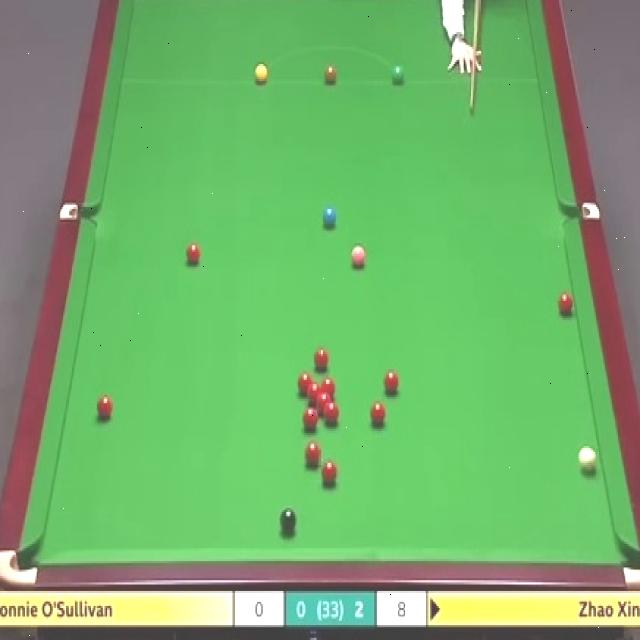black-ball: (280, 508, 297, 532)
blue-ball: (322, 204, 337, 232)
brown-ball: (323, 64, 338, 84)
green-ball: (392, 65, 406, 84)
pink-ball: (351, 247, 366, 271)
red-ball: (94, 392, 112, 420), (318, 460, 336, 488), (296, 370, 315, 396), (312, 347, 332, 371), (557, 292, 574, 319), (304, 440, 320, 468), (382, 371, 401, 394), (369, 402, 386, 427), (302, 406, 318, 432), (306, 384, 324, 406), (323, 404, 340, 427), (321, 378, 336, 403), (186, 245, 201, 264), (316, 394, 331, 412)
white-ball: (578, 445, 596, 474)
yellow-ball: (254, 64, 268, 84)
